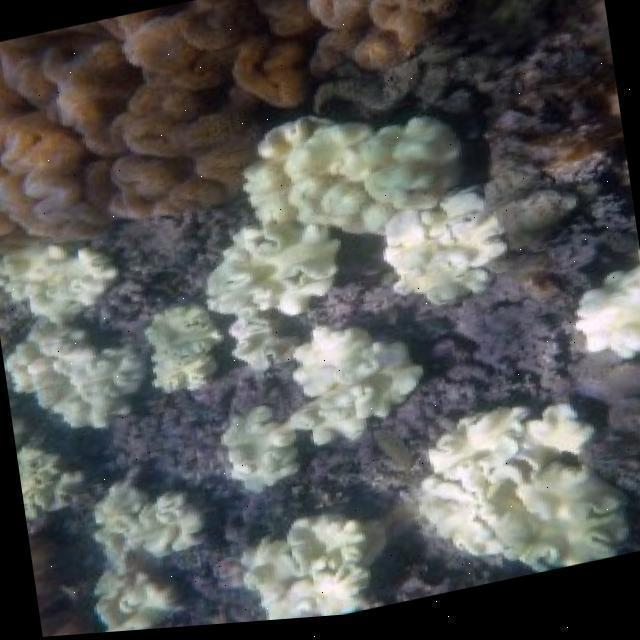Bleached Coral: (262, 123, 640, 630), (0, 249, 262, 640)
Dead Coral: (0, 5, 452, 229)
